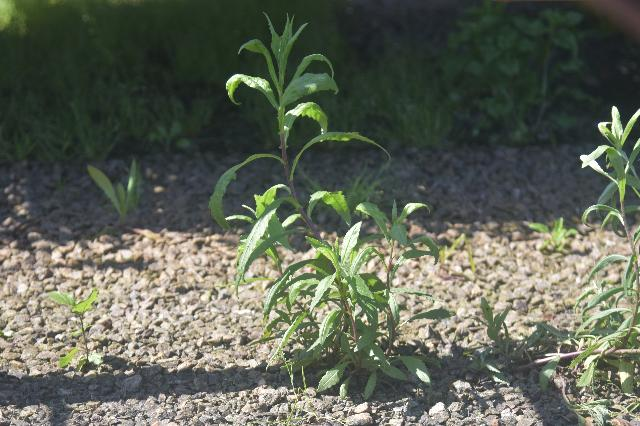MalezaMontesDelPlata: (205, 5, 455, 391), (569, 99, 640, 410), (458, 291, 565, 394), (42, 279, 111, 384), (74, 154, 159, 235), (526, 207, 574, 259)
